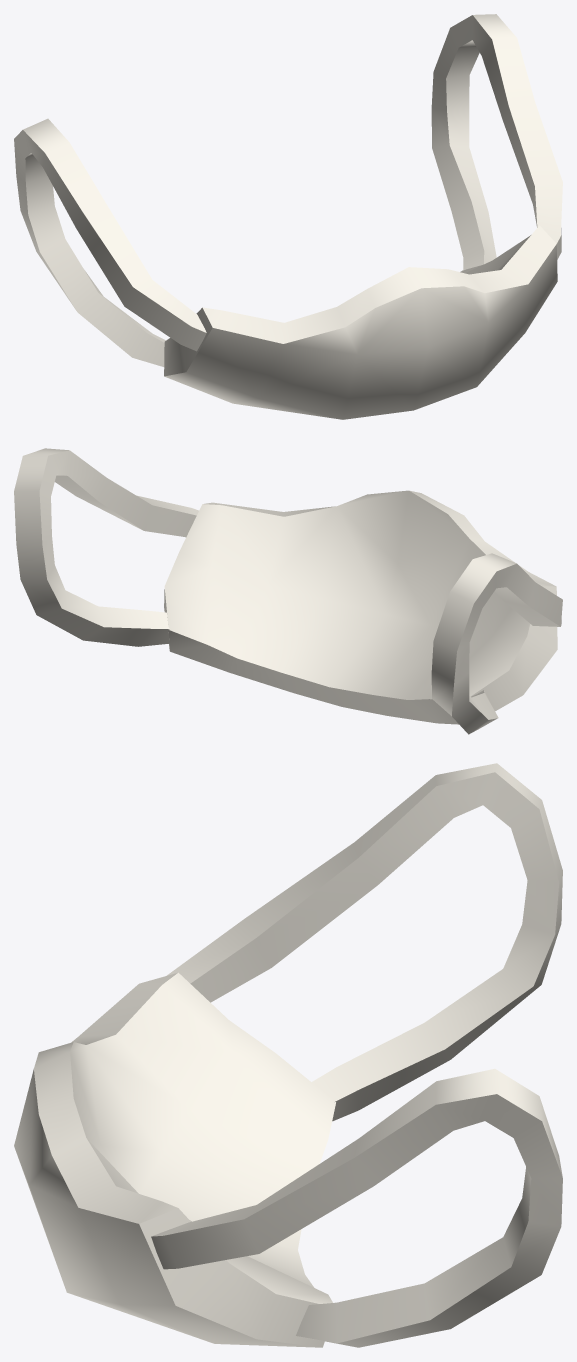
File: Mask_1.fbx
The picture shows the model from 3 angles, top to bottom: view 1: azimuth 30°, elevation 25°; view 2: azimuth 150°, elevation 25°; view 3: azimuth 270°, elevation 25°; orthographic projection. The views are drawn at different scales.
Parts seen in each view (by area): view 1: Mask_1; view 2: Mask_1; view 3: Mask_1.
Part boxes in pixels (bbox=[...]): Mask_1: bbox=[14, 14, 562, 419]; Mask_1: bbox=[14, 448, 562, 734]; Mask_1: bbox=[14, 763, 562, 1347].
Bounding box in the file's own units: 52.64 × 27.49 × 36.91.
